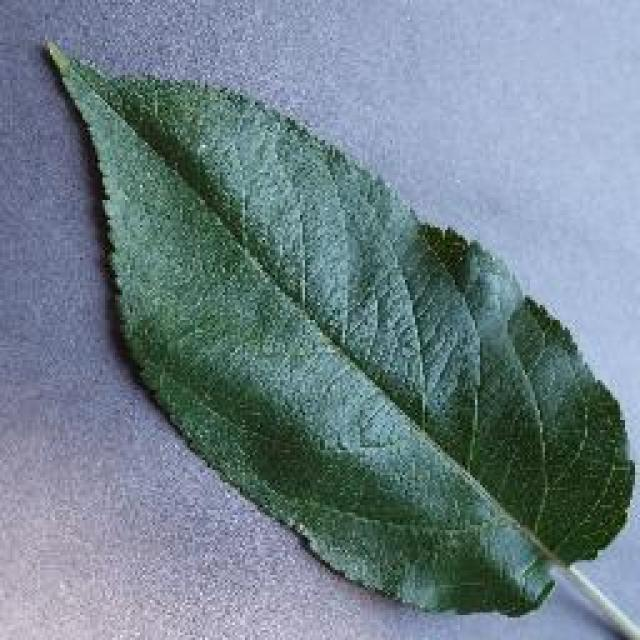apple healthy: (38, 33, 638, 625)
